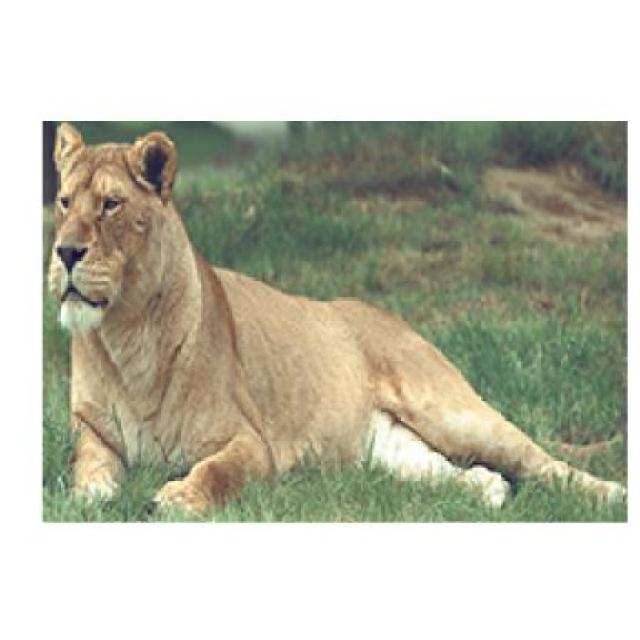Lion: (32, 99, 636, 563)
